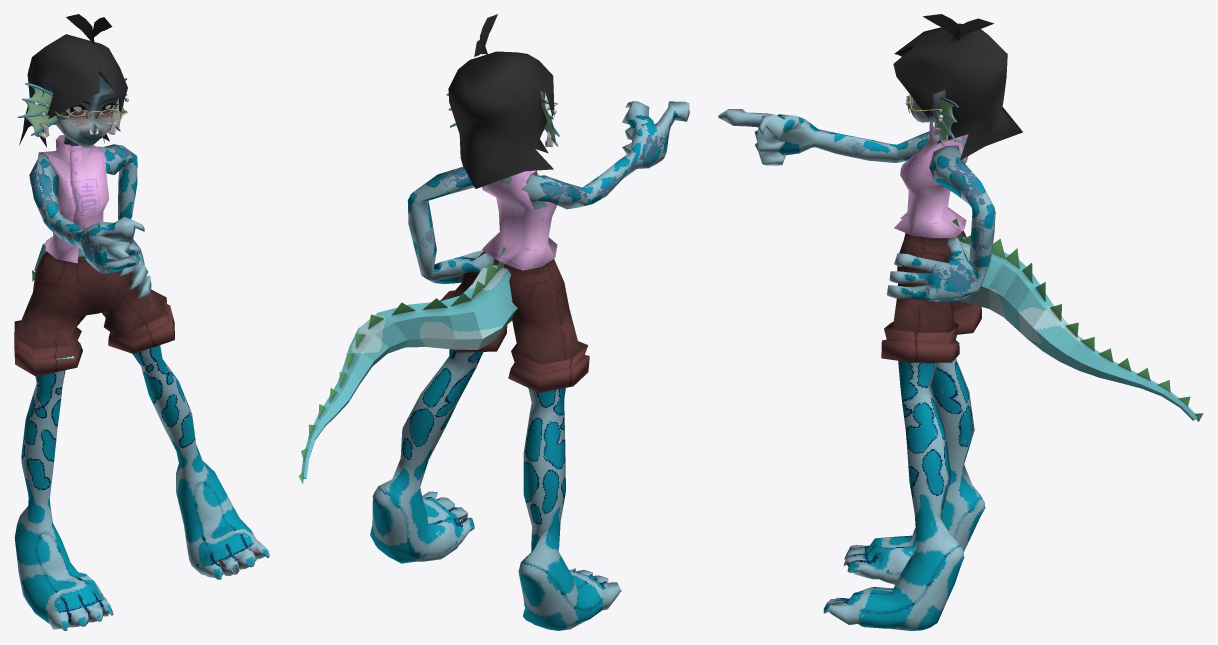
The model's file is Shelby-v3.glb.
3 views of the same model, side by side, from view 1: azimuth 30°, elevation 25°; view 2: azimuth 150°, elevation 25°; view 3: azimuth 270°, elevation 25° (orthographic). The views are drawn at different scales.
Parts seen in each view (by area): view 1: 00-Legs__exp, 00-Shorts__exp, 00-Skin__exp, 00-Hair__exp, 01-Shirt__exp, 00-Finn__exp, Glasses_Lenses__exp, 00-Eyes__exp; view 2: 00-Legs__exp, 00-Hair__exp, 03-Reptile_Tail_v2_Frozen__exp, 00-Skin__exp, 00-Shorts__exp, 01-Shirt__exp; view 3: 00-Legs__exp, 00-Skin__exp, 00-Hair__exp, 03-Reptile_Tail_v2_Frozen__exp, 00-Shorts__exp, 01-Shirt__exp.
Boxes of the visible parts, left/top/right/bottom form: 00-Legs__exp: left=14, top=345, right=269, bottom=630; 00-Shorts__exp: left=14, top=251, right=174, bottom=376; 00-Skin__exp: left=29, top=74, right=151, bottom=297; 00-Hair__exp: left=19, top=14, right=127, bottom=147; 01-Shirt__exp: left=38, top=135, right=109, bottom=263; 00-Finn__exp: left=17, top=78, right=127, bottom=135; Glasses_Lenses__exp: left=68, top=110, right=120, bottom=123; 00-Eyes__exp: left=63, top=100, right=117, bottom=118; 00-Legs__exp: left=370, top=349, right=621, bottom=630; 00-Hair__exp: left=448, top=14, right=554, bottom=188; 03-Reptile_Tail_v2_Frozen__exp: left=298, top=247, right=517, bottom=483; 00-Skin__exp: left=407, top=90, right=689, bottom=283; 00-Shorts__exp: left=440, top=251, right=589, bottom=392; 01-Shirt__exp: left=482, top=170, right=557, bottom=270; 00-Legs__exp: left=823, top=335, right=985, bottom=630; 00-Skin__exp: left=718, top=89, right=995, bottom=301; 00-Hair__exp: left=893, top=14, right=1022, bottom=160; 03-Reptile_Tail_v2_Frozen__exp: left=952, top=218, right=1203, bottom=421; 00-Shorts__exp: left=881, top=230, right=981, bottom=362; 01-Shirt__exp: left=894, top=122, right=968, bottom=238.
Size of the model in its own units: 0.7209 by 1.82 by 1.36.
2 materials, 2 textured.
